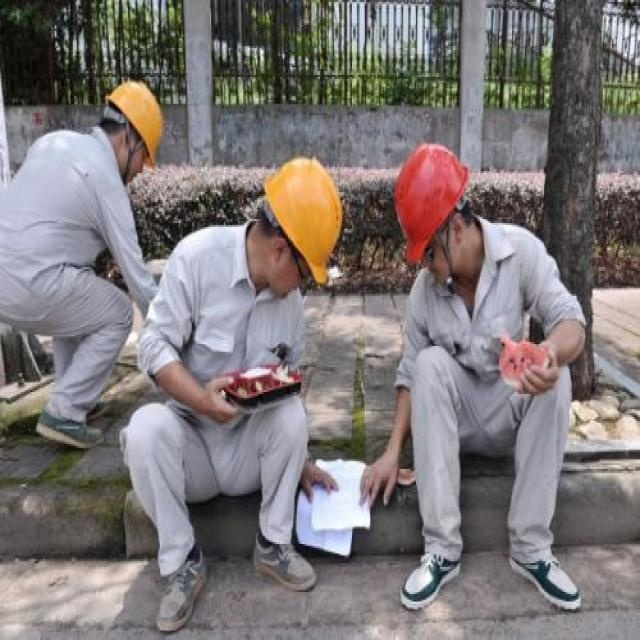Con_Casco: (249, 158, 343, 292), (101, 80, 165, 181)
